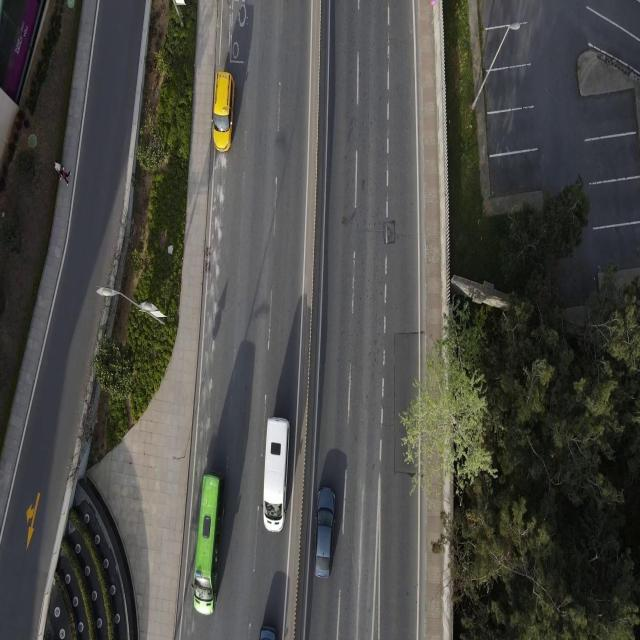p3rson: (53, 162, 64, 180), (59, 170, 71, 186)
